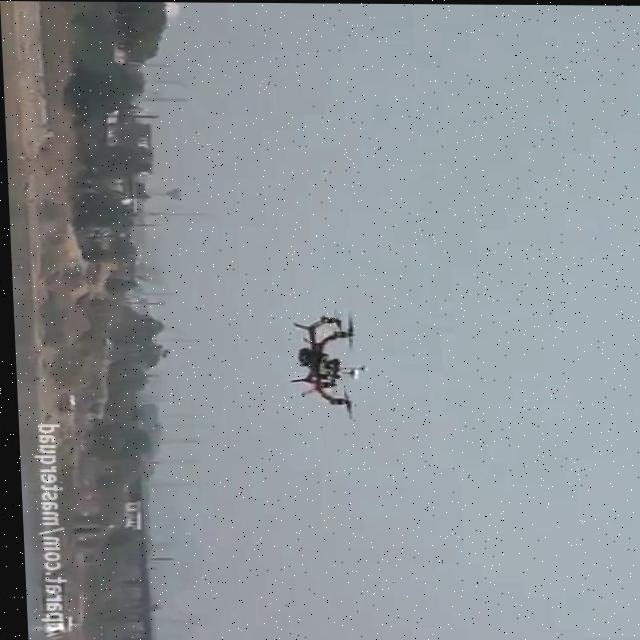drone: (280, 304, 373, 422)
